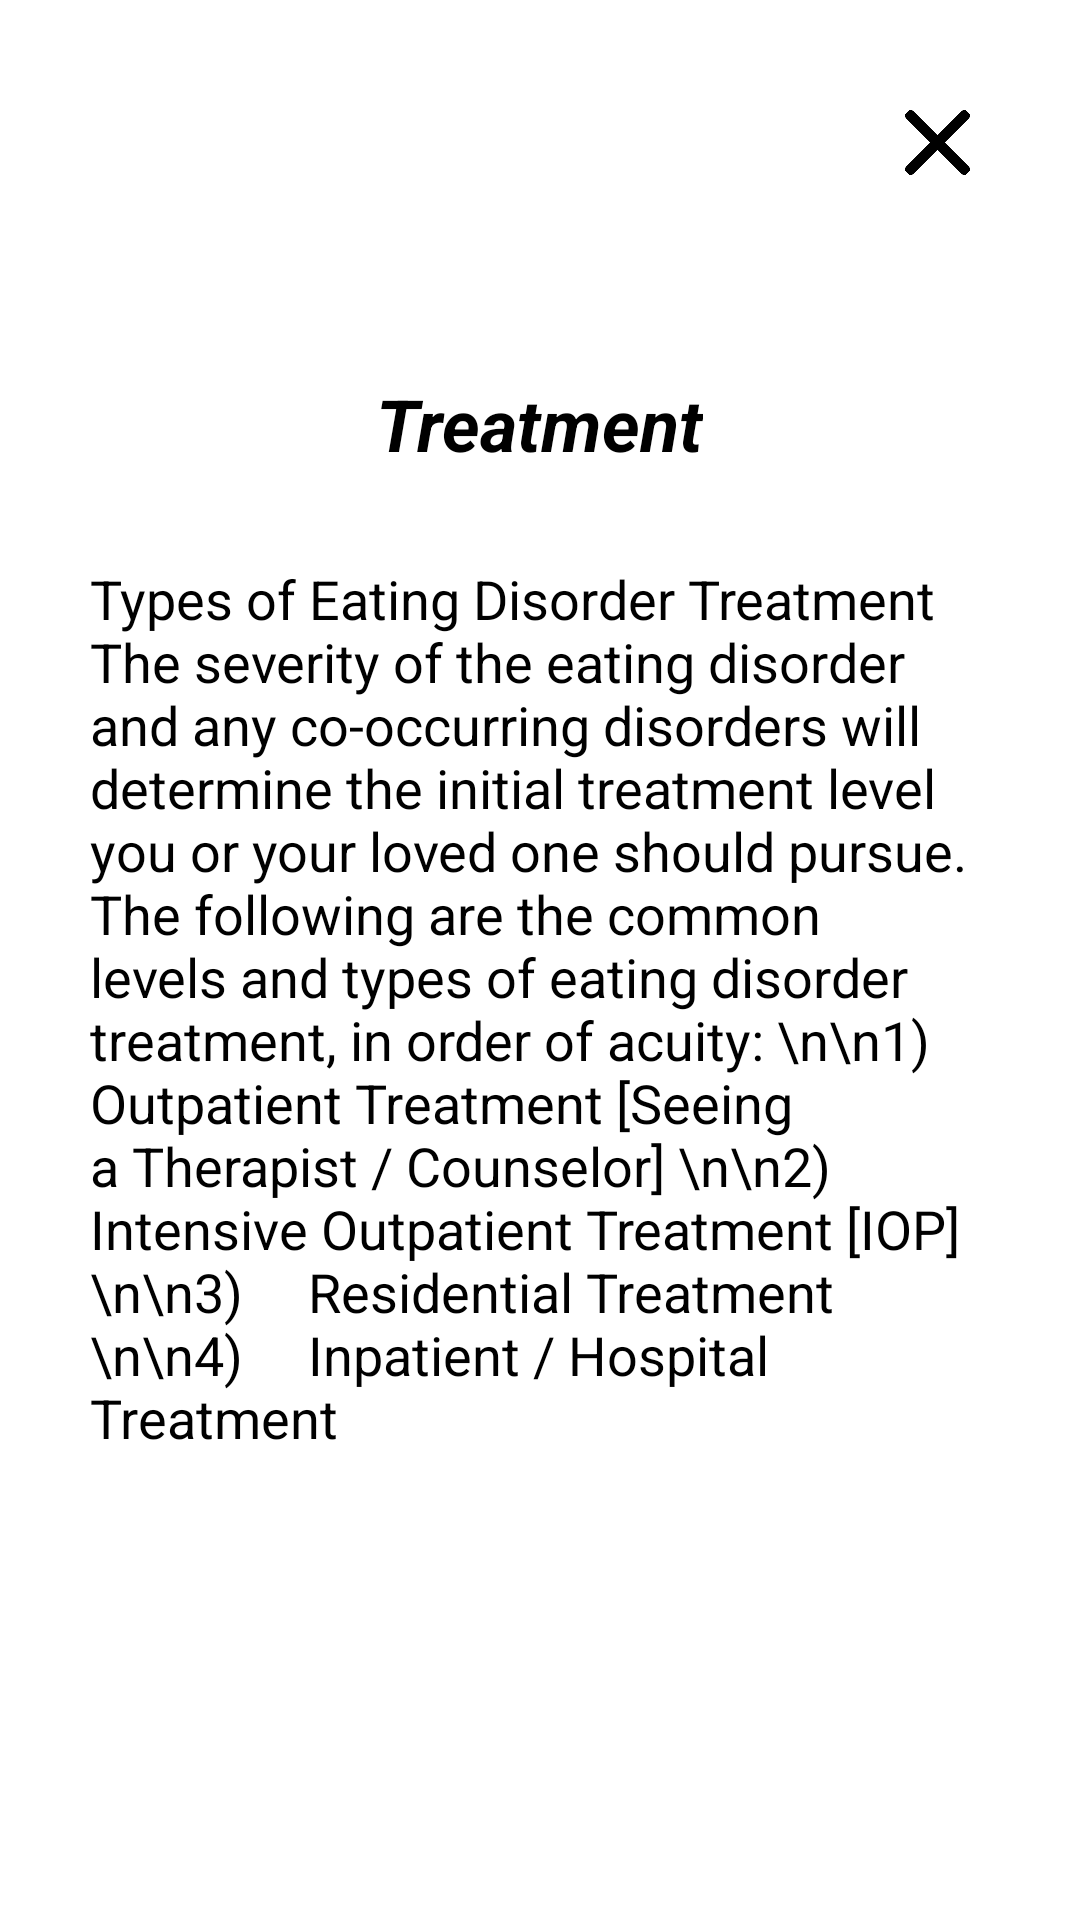

Where to tap for icons on this 1080px x 1920px app screen, as [x,y]:
cancel: [937,142]
